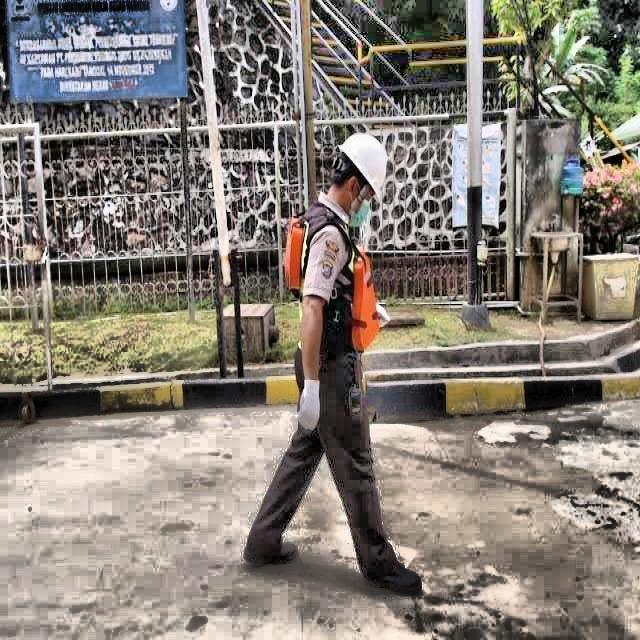safety_jacket: (284, 211, 386, 365)
